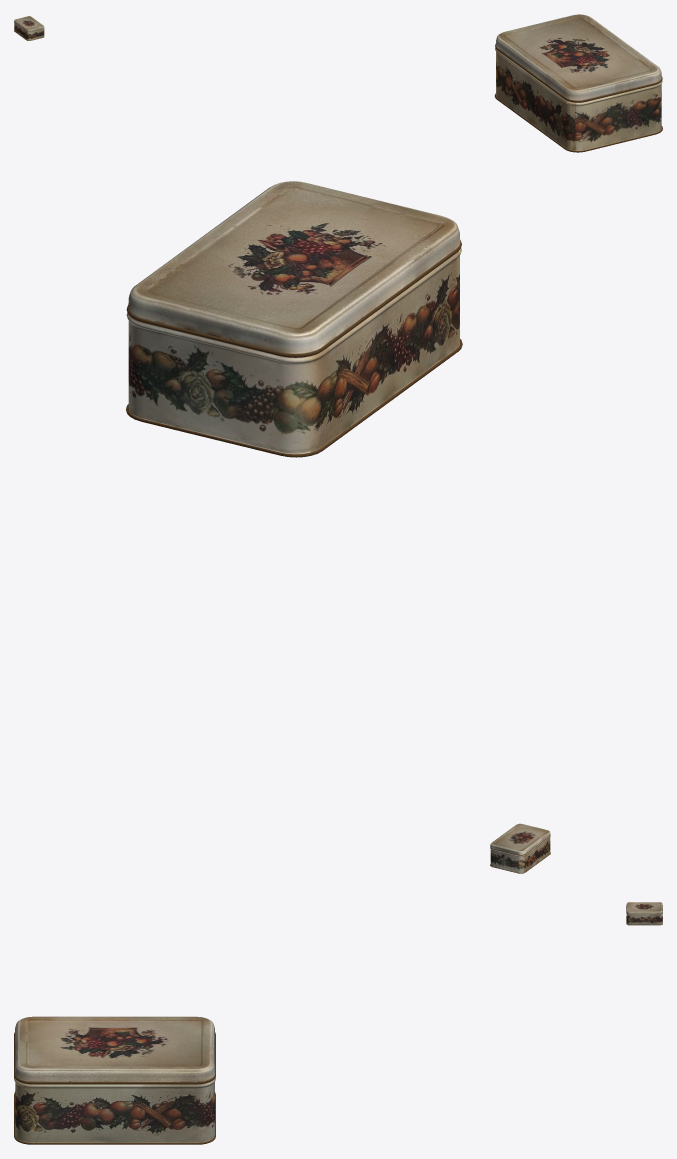
File: Tin Box With Florarl Design.fbx
The picture shows the model from 3 angles, top to bottom: view 1: azimuth 30°, elevation 25°; view 2: azimuth 150°, elevation 25°; view 3: azimuth 270°, elevation 25°; orthographic projection. The views are drawn at different scales.
Visible parts, largest first — view 1: Tin, Tin.001; view 2: Tin, Tin.001; view 3: Tin, Tin.001.
Part boxes in pixels (x1=…): Tin: x1=494, y1=14, x2=662, y2=152; Tin.001: x1=14, y1=16, x2=44, y2=40; Tin: x1=126, y1=181, x2=462, y2=457; Tin.001: x1=490, y1=823, x2=550, y2=873; Tin: x1=14, y1=1016, x2=215, y2=1144; Tin.001: x1=626, y1=902, x2=662, y2=925.
Size of the model in its own units: 288 by 42.87 by 343.
12 materials, 12 textured.
